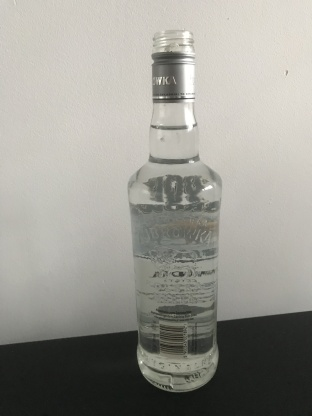nakretka: (149, 26, 196, 104)
